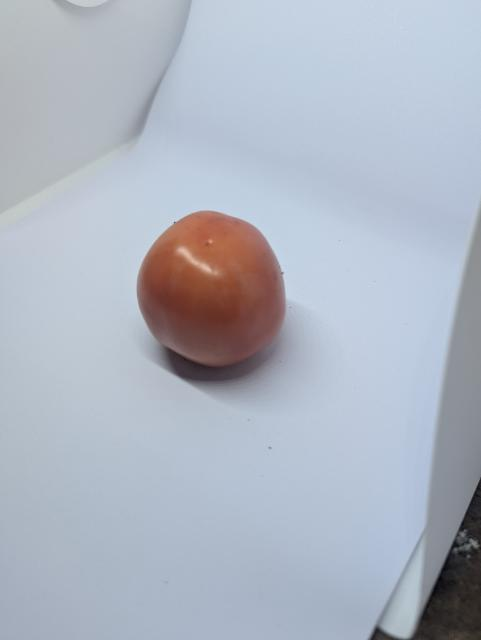red: (122, 189, 323, 382)
